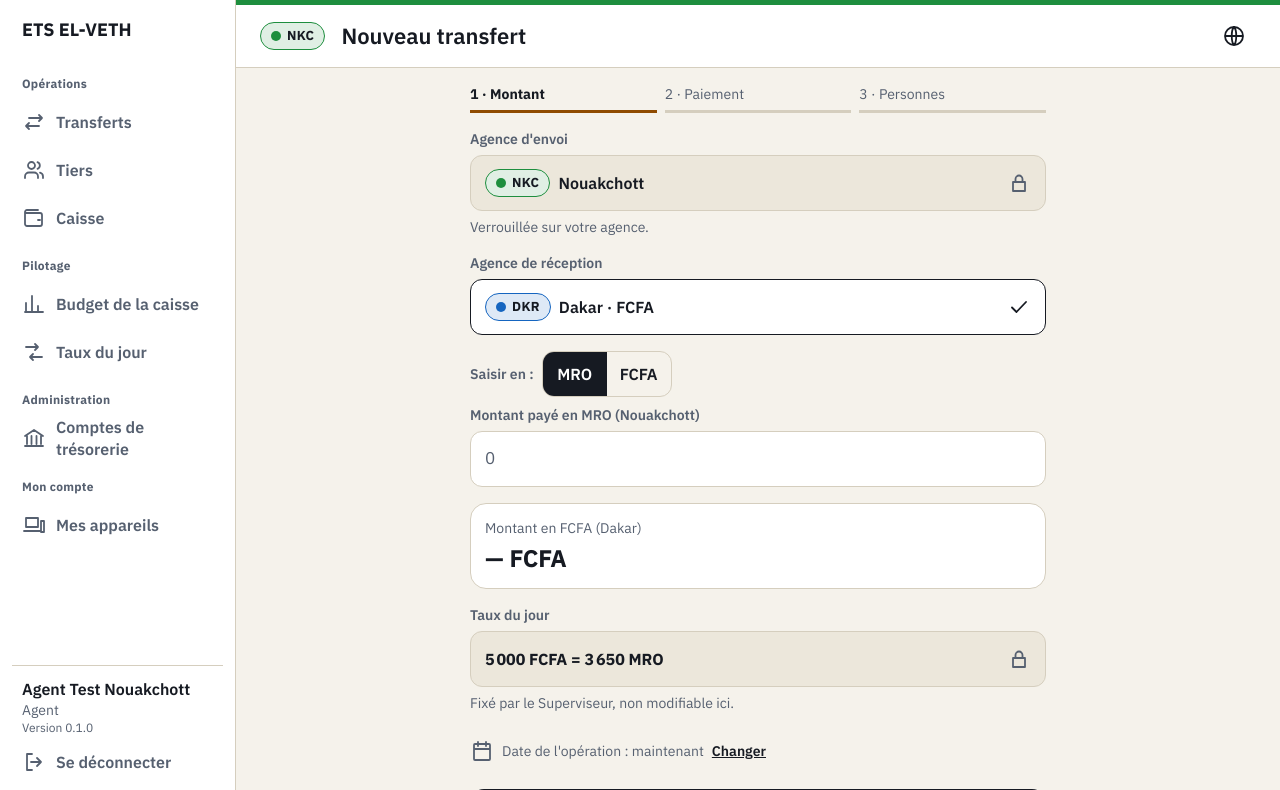
it: Création d’un transfert — crédit › exige un tiers quand le crédit est activé, et refuse un crédit inutile
Type "912500" into the field labelled "Montant payé en MRO (Nouakchott)" at [758, 459], box [471,433,1045,485]
(page scrolled)
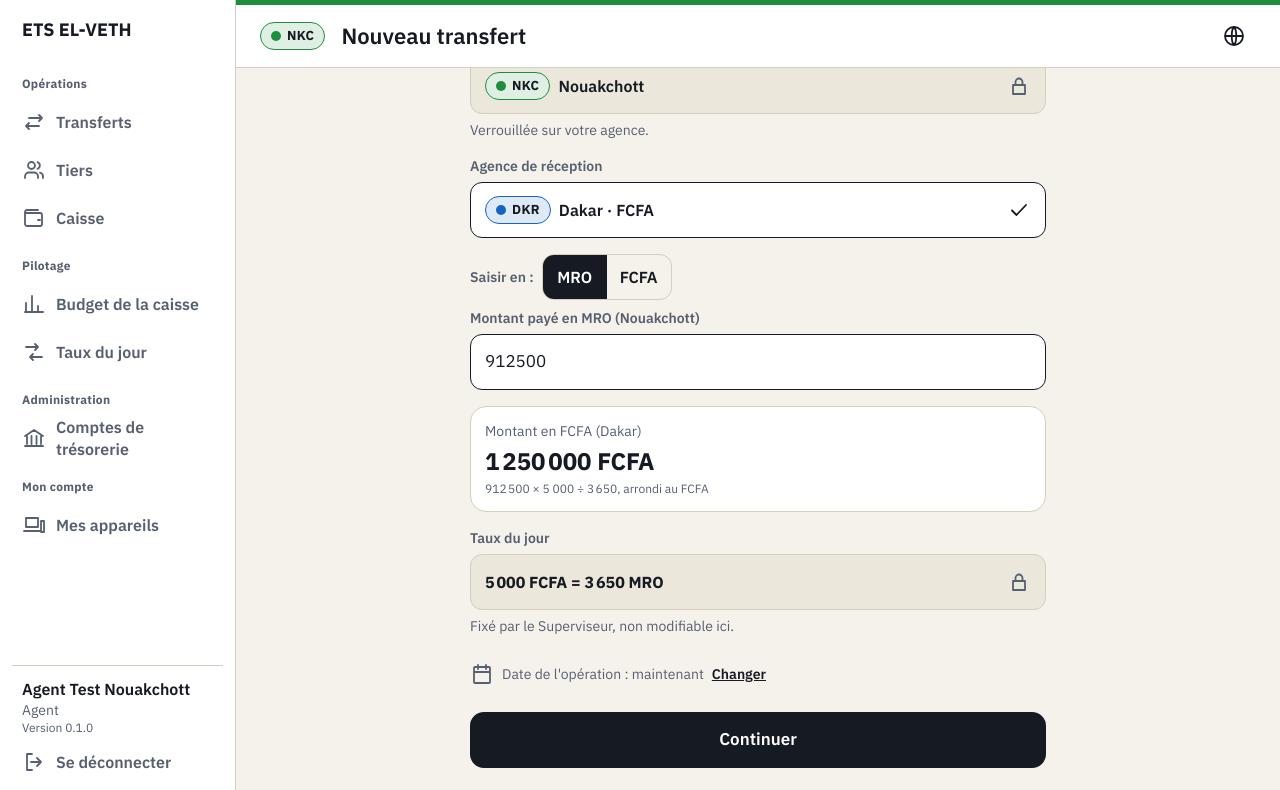
Expected: the text "1 250 000 FCFA" is shown, [485,445,654,477]
Click the button "Continuer" at [758, 740], box [470,712,1046,768]
(page scrolled)
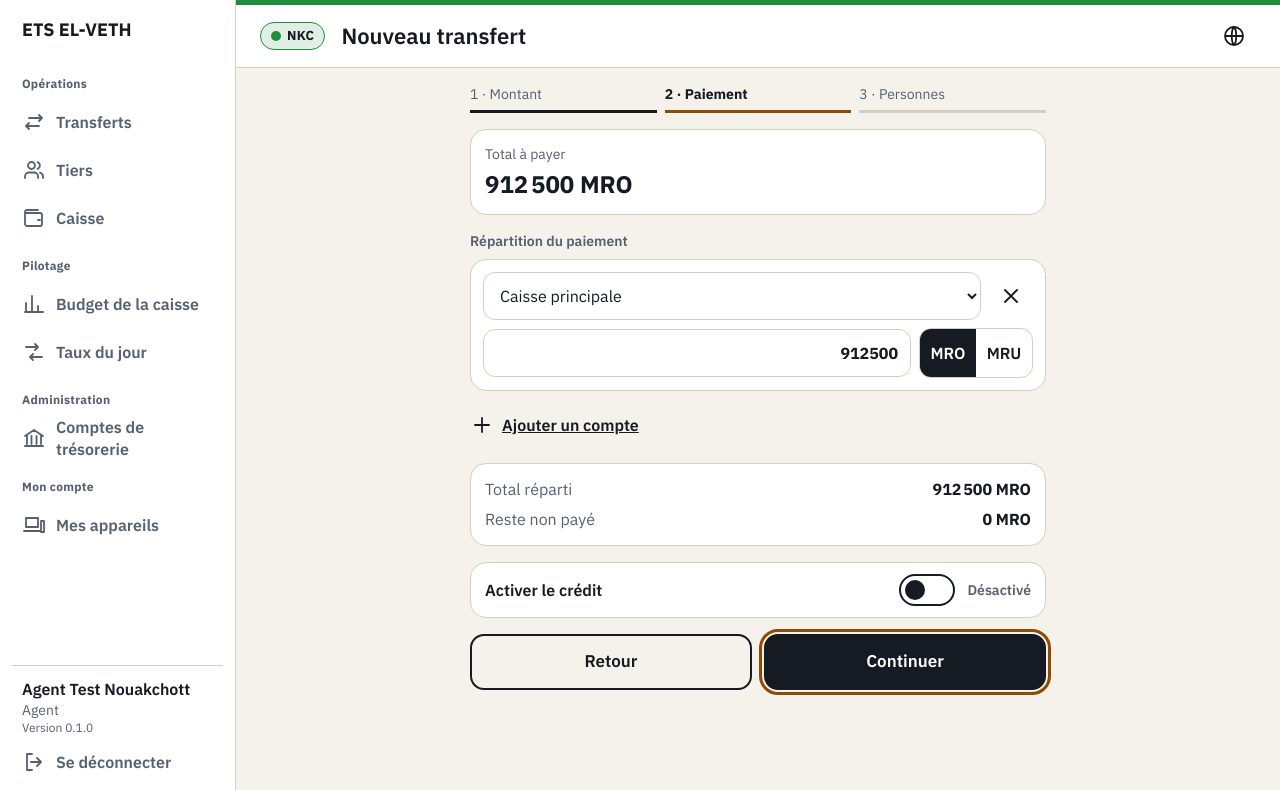
Click the switch named "Activer le crédit" at [927, 590], box [899,574,955,606]
(page scrolled)
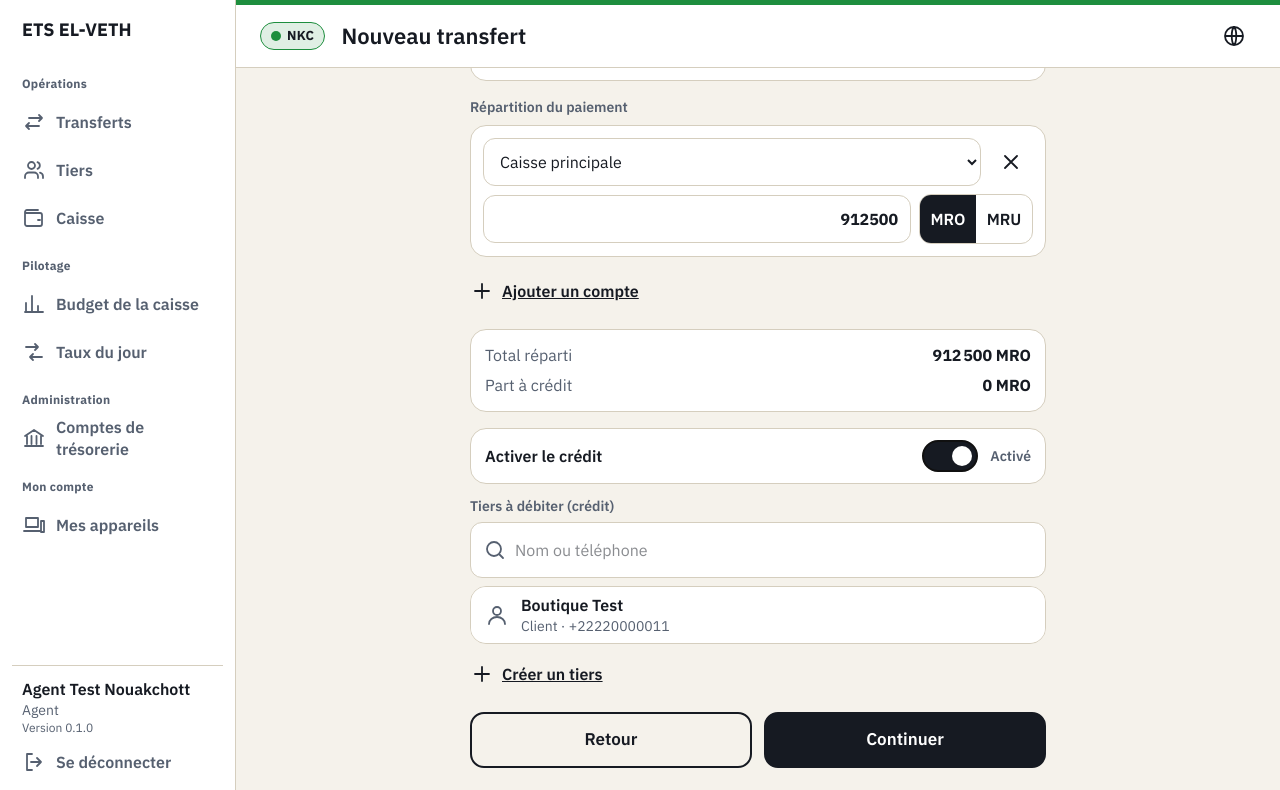
Click the button "Continuer" at [905, 740], box [764,712,1046,768]
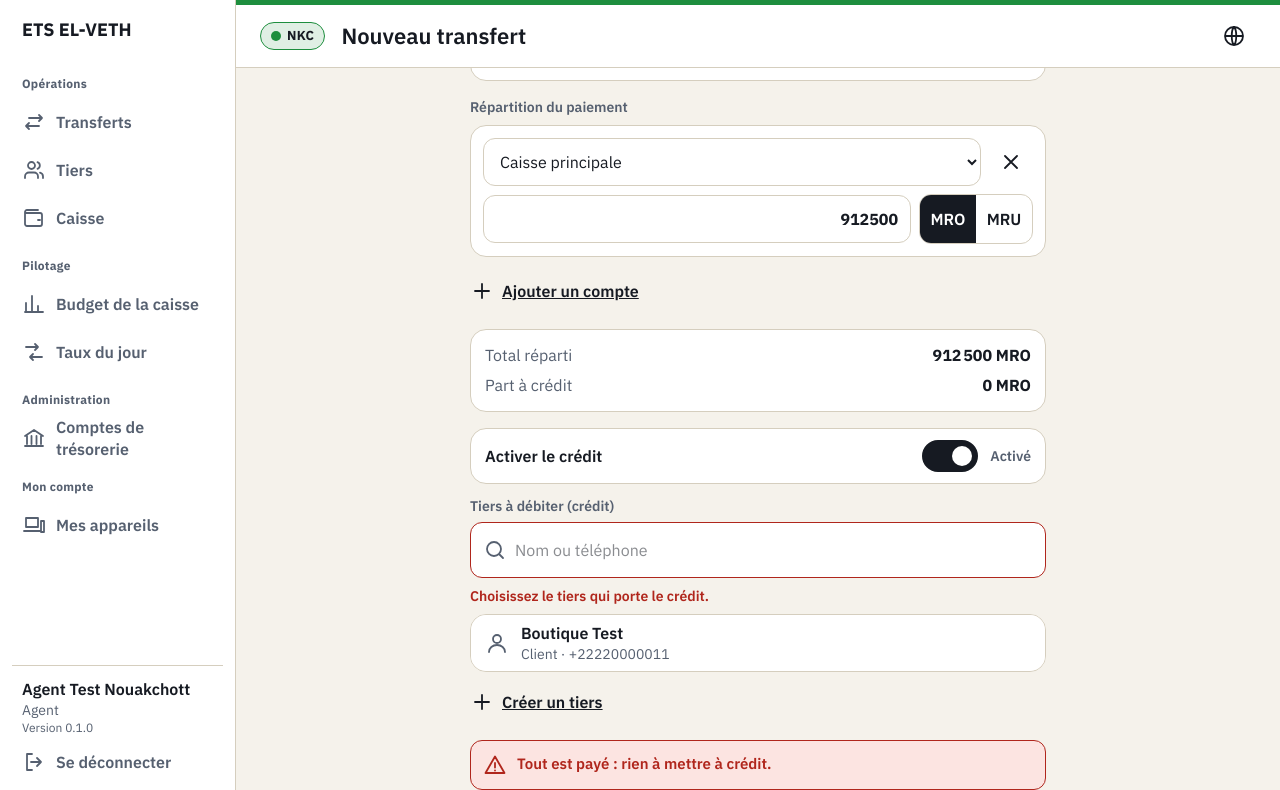
Expected: the text "Tout est payé : rien à mettre à crédit." is shown, [517,753,772,777]
Expected: the text "Choisissez le tiers qui porte le crédit." is shown, [470,587,709,605]
